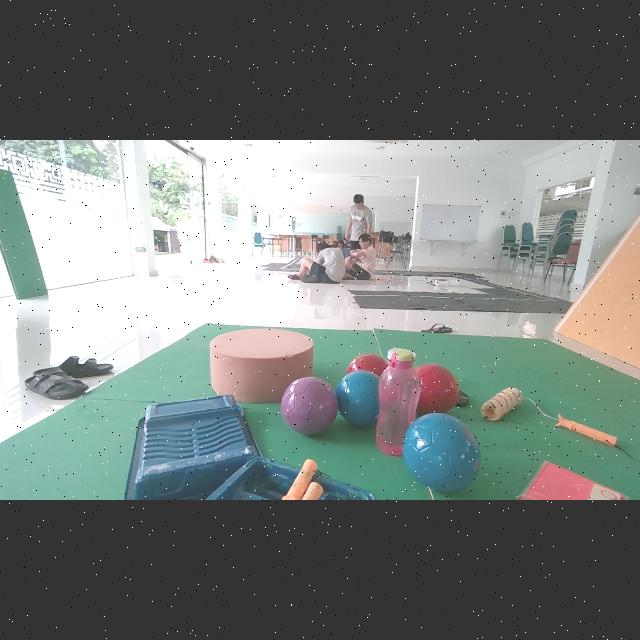B: (403, 414, 481, 493), (335, 370, 379, 426)
P: (281, 376, 338, 436)
R: (415, 363, 459, 414), (346, 353, 387, 376)
